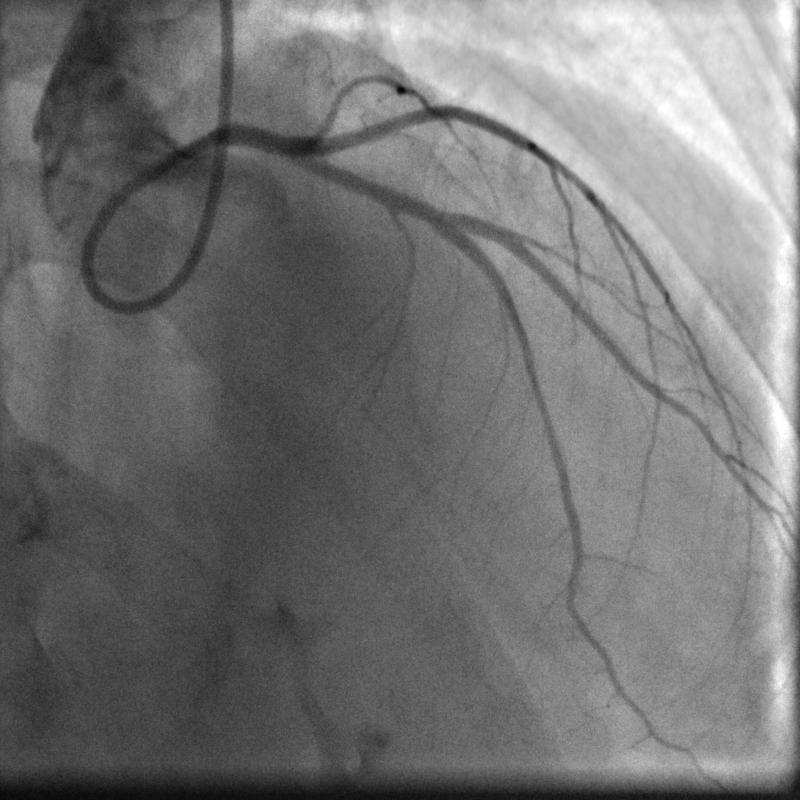Stenosis: (419, 196, 446, 236)
